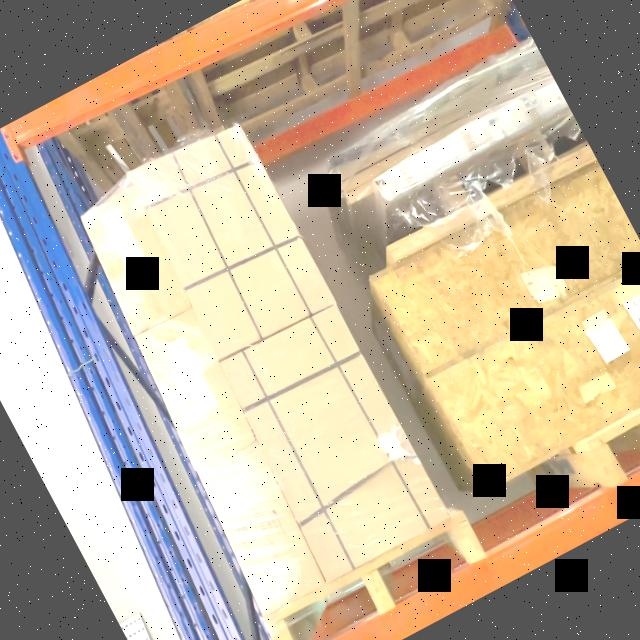box: (220, 302, 448, 576), (130, 124, 330, 354), (198, 443, 324, 610), (136, 310, 254, 464), (82, 191, 190, 330)
